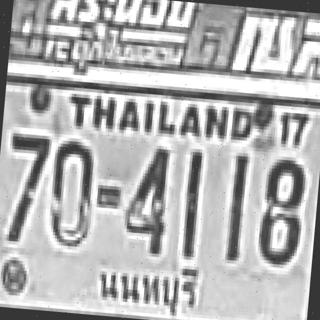N00: (46, 136, 94, 247)
N01: (179, 148, 202, 256), (180, 148, 201, 256), (225, 154, 245, 259)
N04: (121, 143, 169, 254)
N07: (2, 130, 50, 243)
N08: (257, 155, 304, 262)
P37: (94, 259, 204, 320)
